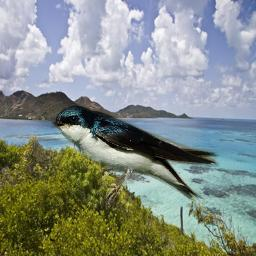Swallow: (51, 104, 224, 207)
